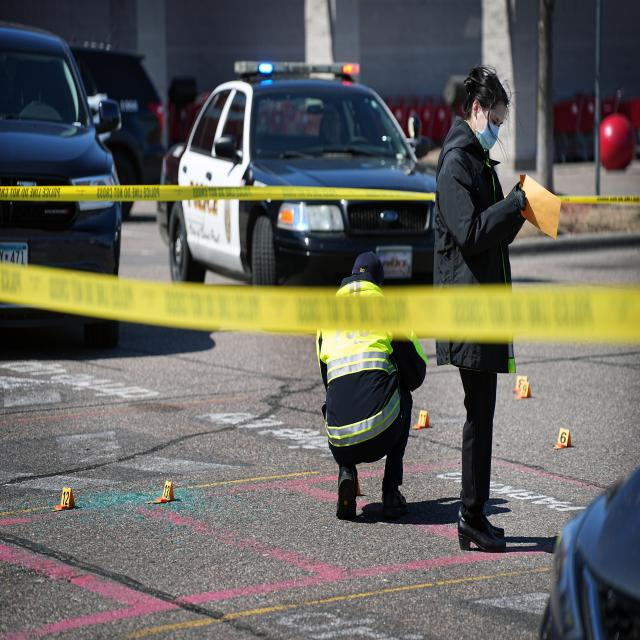police: (428, 33, 524, 543), (294, 247, 423, 528)
